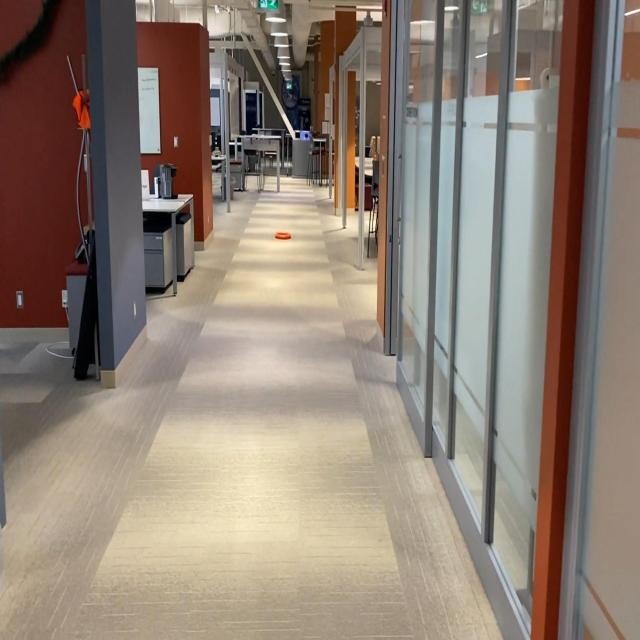note: (275, 230, 290, 242)
